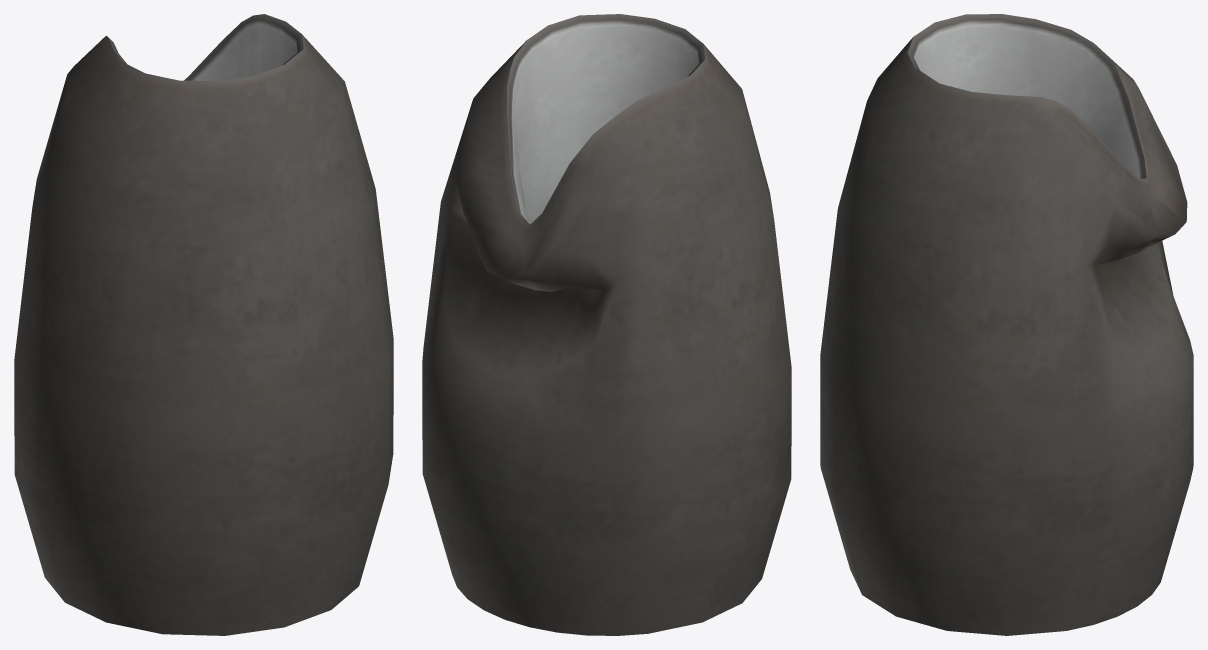
The model's file is o_com_zhuangshi_07.fbx.
3 views of the same model, side by side, from view 1: azimuth 30°, elevation 25°; view 2: azimuth 150°, elevation 25°; view 3: azimuth 270°, elevation 25° (orthographic). The views are drawn at different scales.
Parts seen in each view (by area): view 1: o_com_zhuangshi_07; view 2: o_com_zhuangshi_07; view 3: o_com_zhuangshi_07.
Boxes of the visible parts, box(x1,y1,x2,y2) form: o_com_zhuangshi_07: box(14, 14, 393, 635); o_com_zhuangshi_07: box(422, 14, 791, 635); o_com_zhuangshi_07: box(820, 14, 1193, 635).
Bounding box in the file's own units: 20.54 × 32.1 × 20.54.
